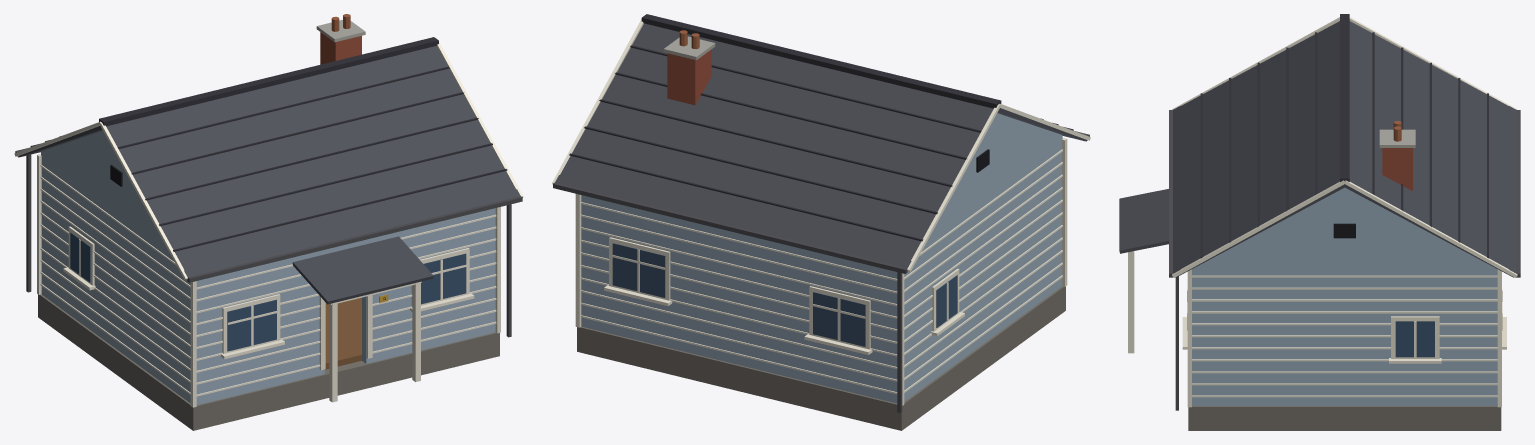
File: house.b.glb
The picture shows the model from 3 angles, left to right: view 1: azimuth 30°, elevation 25°; view 2: azimuth 150°, elevation 25°; view 3: azimuth 270°, elevation 25°; orthographic projection. The views are drawn at different scales.
Parts seen in each view (by area): view 1: roof-front, wall-left, foundation, wall-front-1, wall-front1, porch-roof, gable-1, ridge, gutter1, floor, wf-2.5-glass, wf2.5-glass (+25 smaller); view 2: roof-back, wall-back, wall-left, foundation, gable-1, ridge, gutter-1, wb2.5-glass, wb-2.5-glass, chimney, tiles-b1, tiles-b2 (+29 smaller); view 3: wall-right, roof-front, roof-back, gable1, foundation, porch-roof, ridge, ws1-glass, chimney, wall-back, wall-front1, barge1-1 (+30 smaller).
Boxes of the visible parts, bbox=[...] form: roof-front: bbox=[106, 46, 520, 277]; wall-left: bbox=[45, 158, 189, 402]; foundation: bbox=[38, 294, 499, 430]; wall-front-1: bbox=[189, 250, 324, 404]; wall-front1: bbox=[362, 208, 495, 363]; porch-roof: bbox=[292, 236, 433, 304]; gable-1: bbox=[41, 130, 165, 246]; ridge: bbox=[99, 37, 438, 126]; gutter1: bbox=[187, 196, 522, 282]; floor: bbox=[325, 297, 361, 369]; wf-2.5-glass: bbox=[227, 299, 276, 351]; wf2.5-glass: bbox=[421, 253, 466, 304]; roof-back: bbox=[555, 23, 993, 268]; wall-back: bbox=[581, 195, 905, 403]; wall-left: bbox=[905, 143, 1057, 400]; foundation: bbox=[577, 286, 1065, 430]; gable-1: bbox=[930, 113, 1062, 235]; ridge: bbox=[641, 14, 1001, 108]; gutter-1: bbox=[553, 182, 907, 273]; wb2.5-glass: bbox=[612, 243, 665, 297]; wb-2.5-glass: bbox=[813, 292, 865, 346]; chimney: bbox=[667, 49, 711, 105]; tiles-b1: bbox=[569, 153, 923, 241]; tiles-b2: bbox=[584, 126, 937, 214]; wall-right: bbox=[1199, 266, 1490, 405]; roof-front: bbox=[1173, 21, 1346, 277]; roof-back: bbox=[1343, 21, 1516, 277]; gable1: bbox=[1198, 187, 1491, 266]; foundation: bbox=[1188, 406, 1501, 430]; porch-roof: bbox=[1119, 189, 1168, 253]; ridge: bbox=[1340, 14, 1349, 181]; ws1-glass: bbox=[1395, 321, 1434, 357]; chimney: bbox=[1382, 148, 1412, 190]; wall-back: bbox=[1490, 266, 1497, 405]; wall-front1: bbox=[1192, 266, 1199, 405]; barge1-1: bbox=[1344, 180, 1517, 277].
Size of the model in its own units: 8.92 by 6.98 by 9.11.
